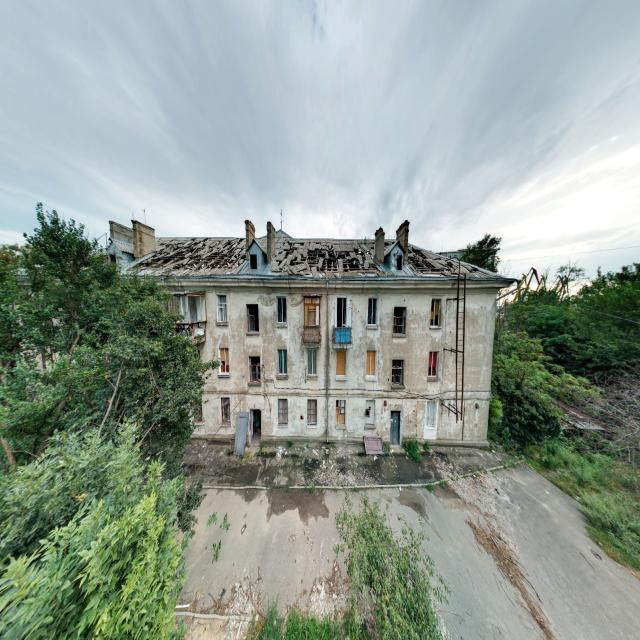broken_window: (392, 305, 407, 336), (246, 303, 259, 334), (215, 294, 228, 324), (248, 355, 261, 384), (391, 358, 404, 386), (429, 298, 441, 328), (366, 297, 378, 327), (218, 346, 230, 376), (276, 348, 288, 377), (276, 295, 287, 326), (365, 348, 376, 379), (220, 396, 231, 424), (277, 398, 288, 426), (306, 398, 317, 426), (428, 350, 438, 378)
building: (107, 213, 520, 452)
roof: (113, 218, 518, 288)
